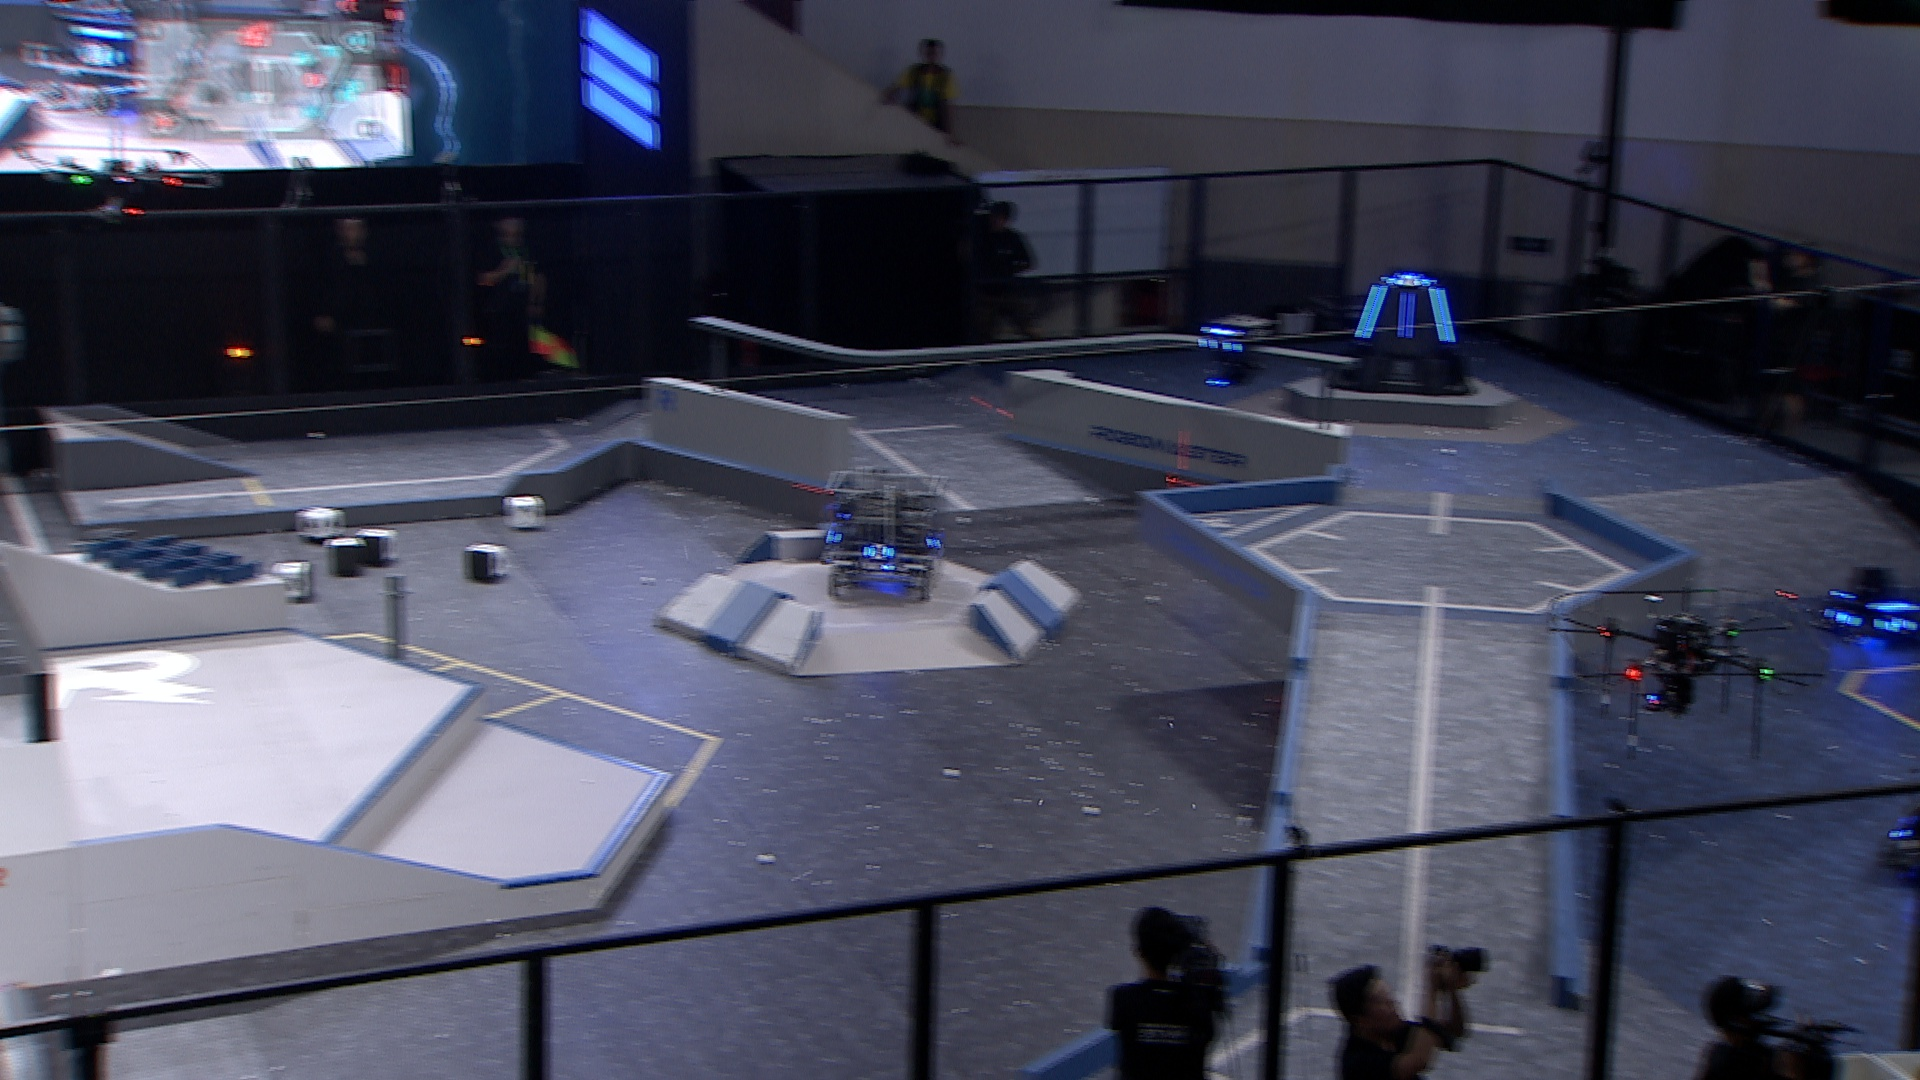armor: (1352, 284, 1387, 342), (1427, 287, 1460, 343), (1396, 291, 1418, 338), (1200, 335, 1244, 353), (1389, 276, 1433, 289), (1822, 607, 1859, 622), (864, 542, 895, 560), (1882, 617, 1917, 632)
base: (1320, 266, 1480, 398)
car: (818, 467, 956, 600), (1815, 564, 1920, 647), (1875, 770, 1920, 880)
watcher: (1193, 311, 1269, 394)
